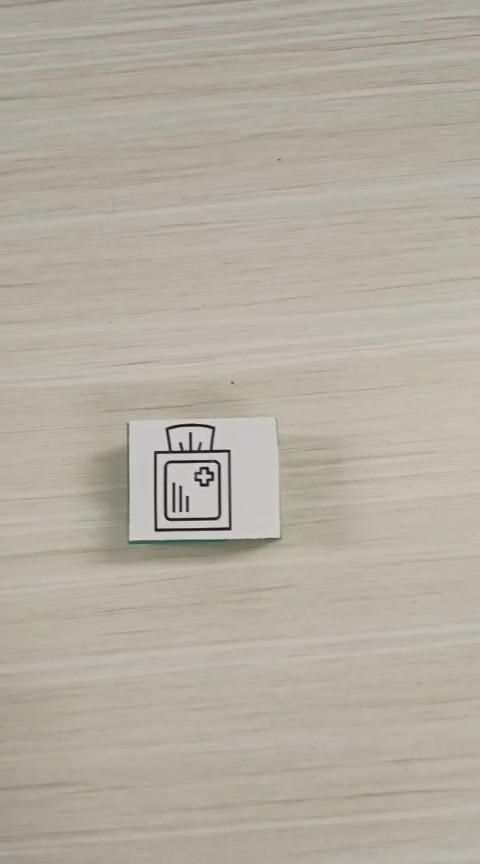Gauze: (125, 415, 281, 544)
